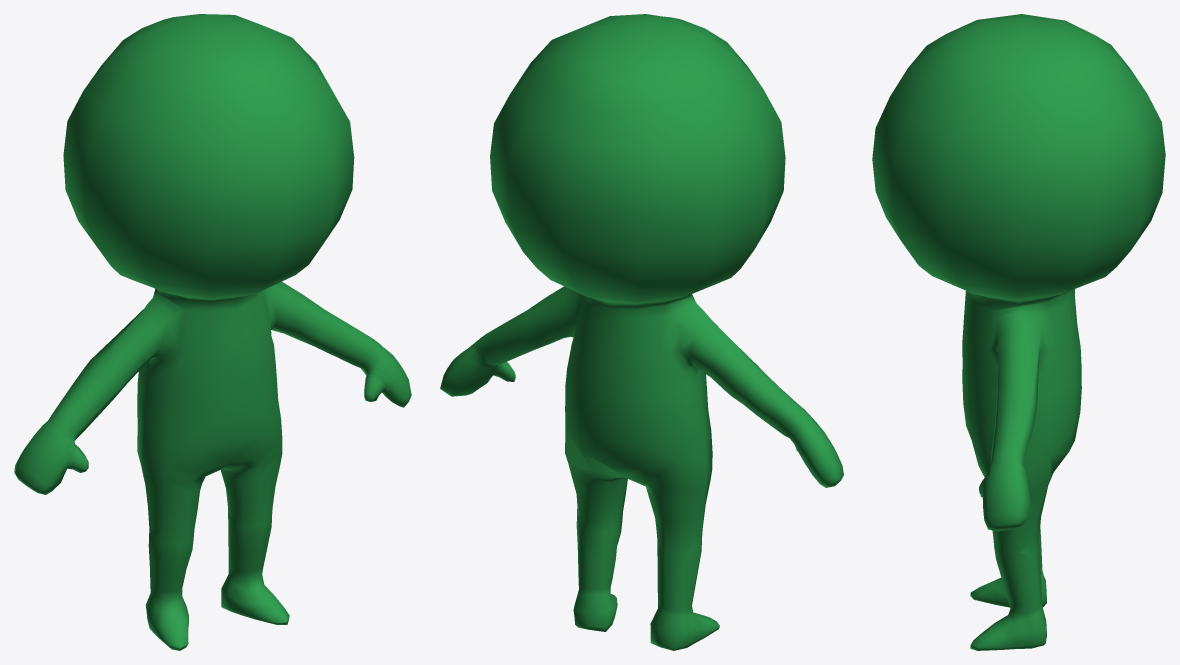
File: CM_Mummy.fbx
3 views of the same model, side by side, from view 1: azimuth 30°, elevation 25°; view 2: azimuth 150°, elevation 25°; view 3: azimuth 270°, elevation 25° (orthographic).
Parts seen in each view (by area): view 1: CM_Mummy; view 2: CM_Mummy; view 3: CM_Mummy.
Boxes of the visible parts, x1,y1,x2,y2 form: CM_Mummy: (14,14,411,650); CM_Mummy: (440,14,843,650); CM_Mummy: (872,14,1165,650).
Size of the model in its own units: 241 by 350 by 157.
